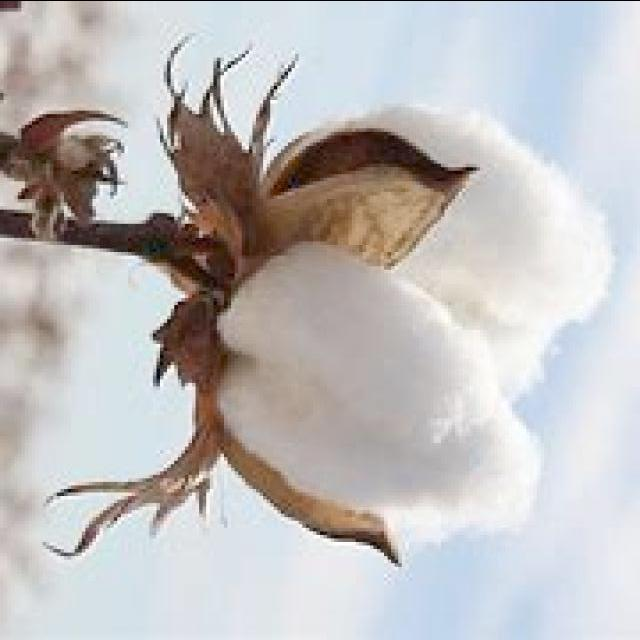Matured Cotton Boll: (176, 94, 622, 548)
